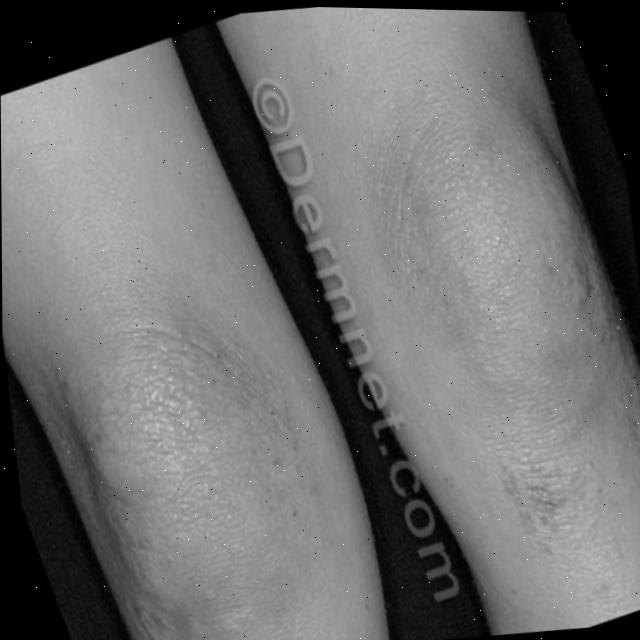Eczema: (481, 400, 612, 542), (158, 604, 281, 640)
